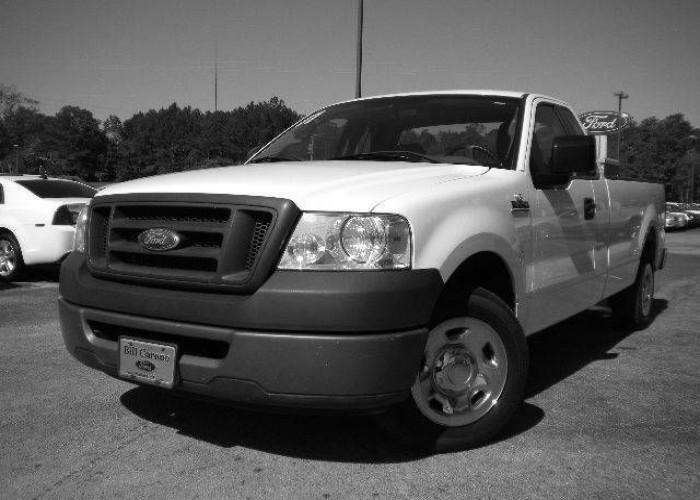car: (52, 91, 674, 440)
